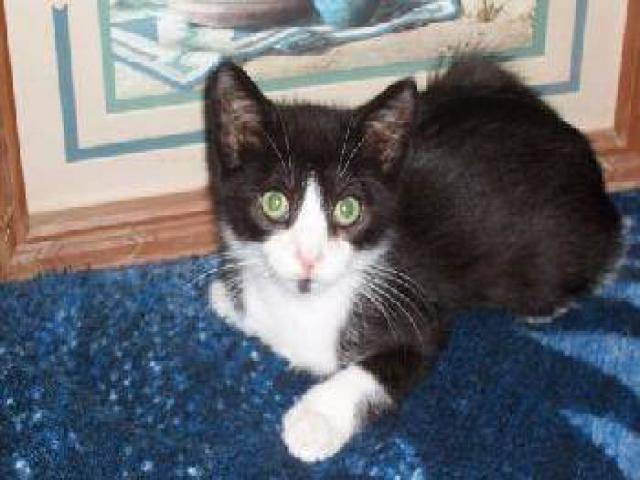cat: (188, 54, 619, 450)
